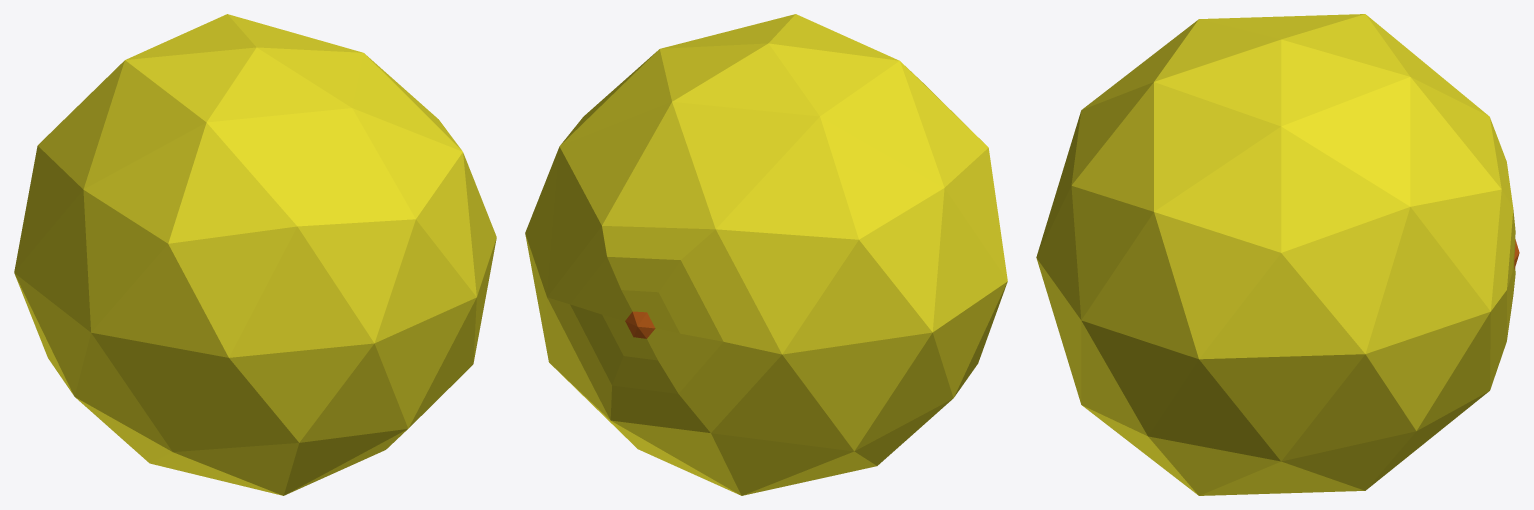
The model's file is melon.fbx.
3 views of the same model, side by side, from view 1: azimuth 30°, elevation 25°; view 2: azimuth 150°, elevation 25°; view 3: azimuth 270°, elevation 25° (orthographic). The views are drawn at different scales.
Visible parts, largest first — view 1: Icosphere; view 2: Icosphere; view 3: Icosphere.
Part boxes in pixels (x1,y1,x2,y2): Icosphere: [14, 14, 496, 495]; Icosphere: [525, 14, 1007, 495]; Icosphere: [1036, 14, 1519, 495].
Size of the model in its own units: 0.22 by 0.22 by 0.22.
